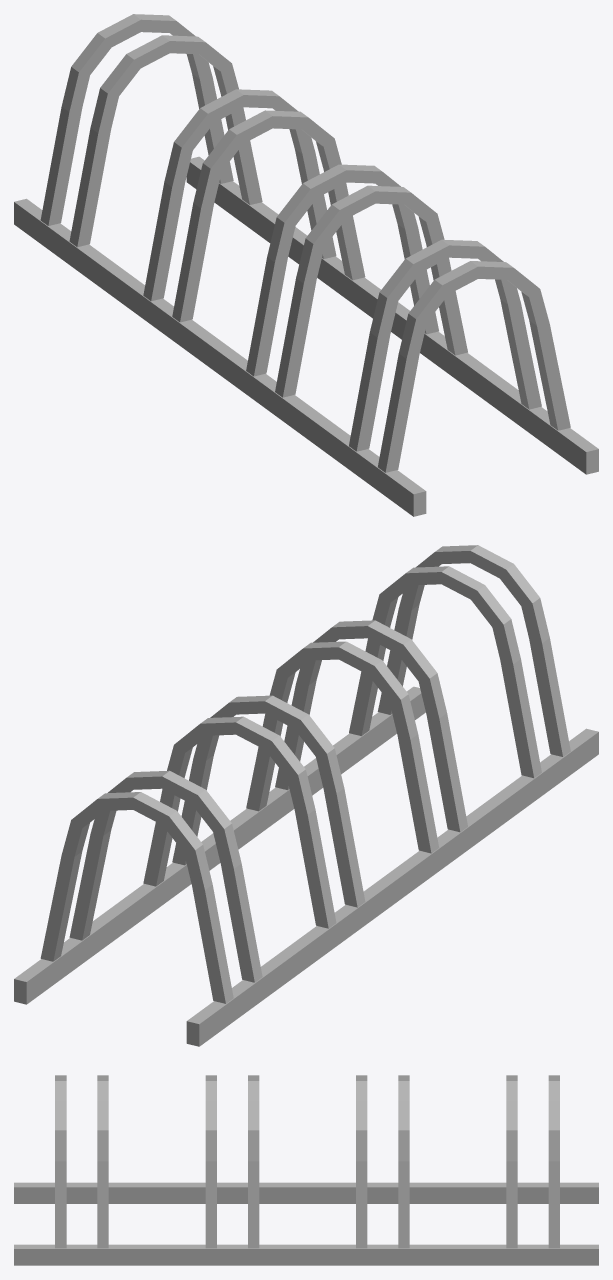
Rendered from stojan.fbx.
The picture shows the model from 3 angles, top to bottom: view 1: azimuth 30°, elevation 25°; view 2: azimuth 150°, elevation 25°; view 3: azimuth 270°, elevation 25°; orthographic projection. The views are drawn at different scales.
Visible parts, largest first — view 1: ukradene kolo; view 2: ukradene kolo; view 3: ukradene kolo.
Part boxes in pixels (x1,y1,x2,y2): ukradene kolo: [14, 14, 598, 516]; ukradene kolo: [14, 545, 598, 1046]; ukradene kolo: [14, 1075, 598, 1265].
Bounding box in the file's own units: 113 × 120 × 420.
Materials: 1 (1 with a texture image).
